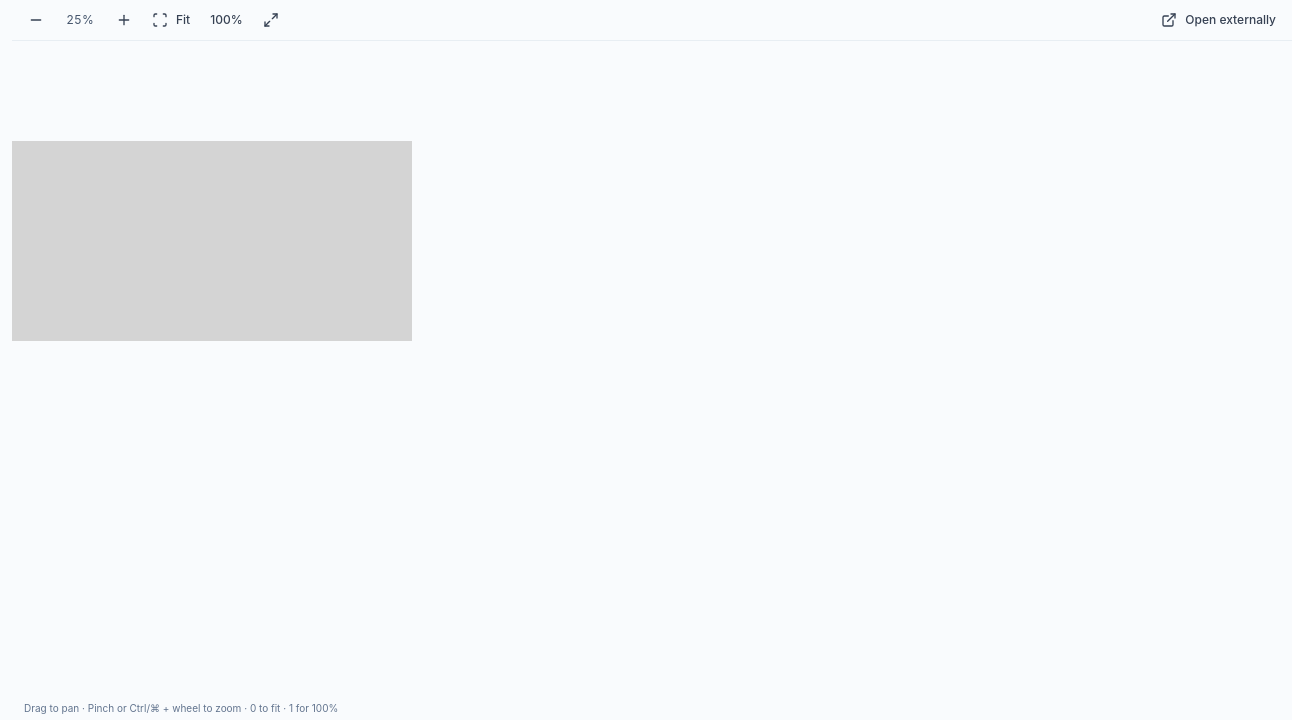
image viewport › opens an owned image identity and reports a failed launch with retry available
The width and height of the screenshot is (1292, 720).
Click the button "Open externally" at {"x": 1219, "y": 20}, box [1153,6,1284,34]
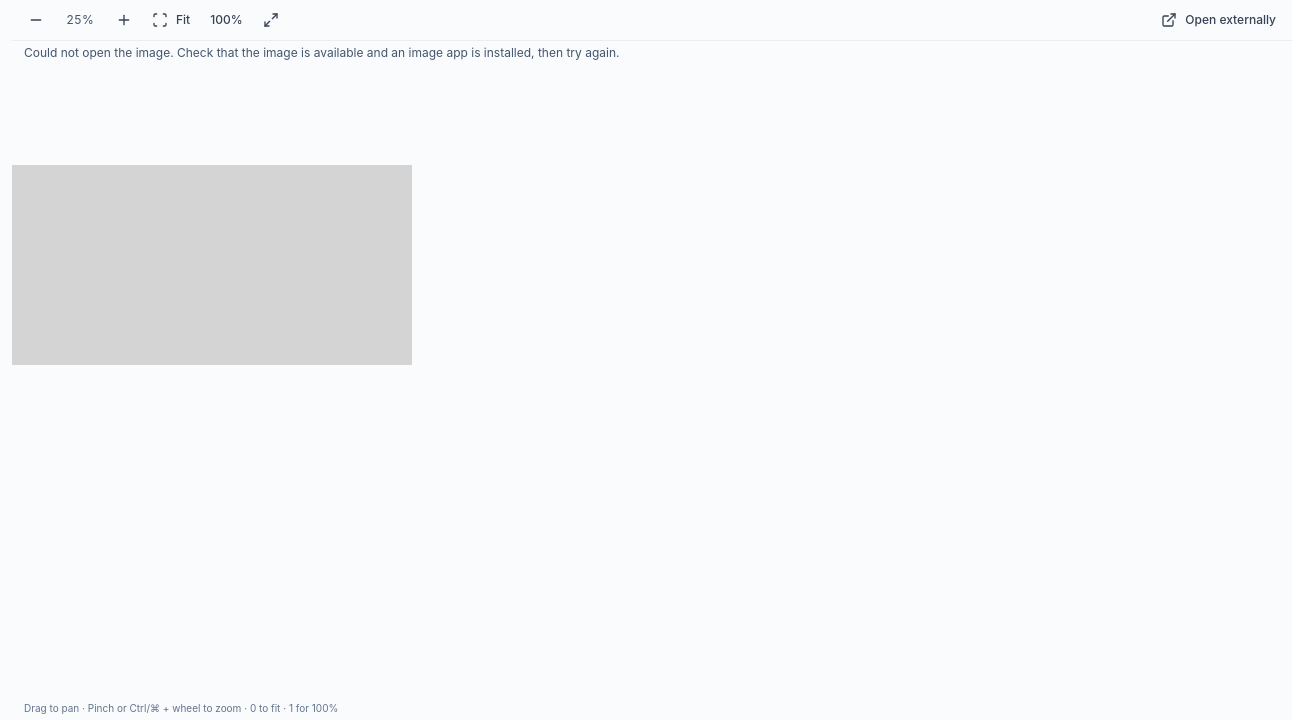
expect the message shows "Could not open the image": met, box [24,45,619,60]
Click the button "Open externally" at {"x": 1219, "y": 20}, box [1153,6,1284,34]
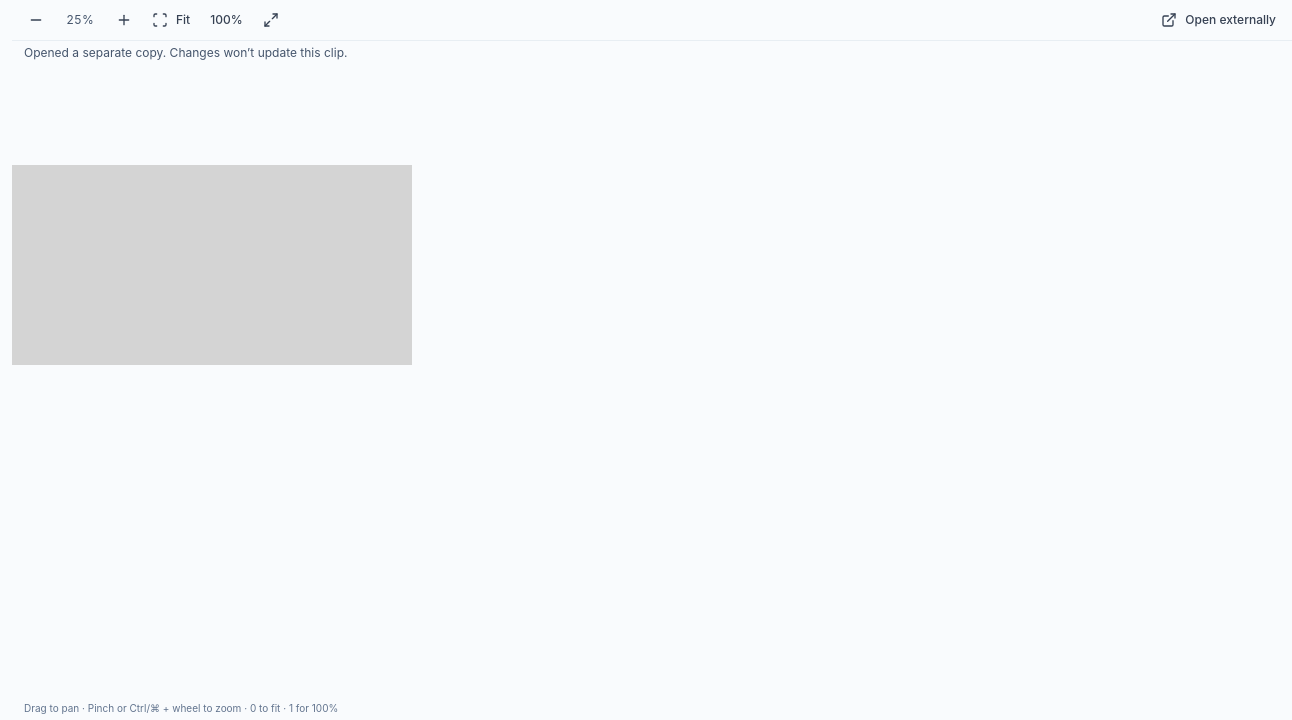
expect the text "Opened a separate copy. Changes won’t update this clip." is shown: met, box [24,45,348,60]
